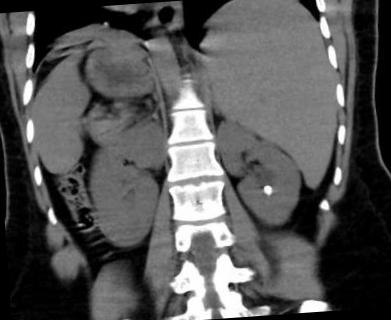Tas_Var: (262, 182, 272, 198)
